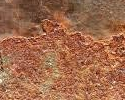Corrosion: (1, 18, 125, 100)
